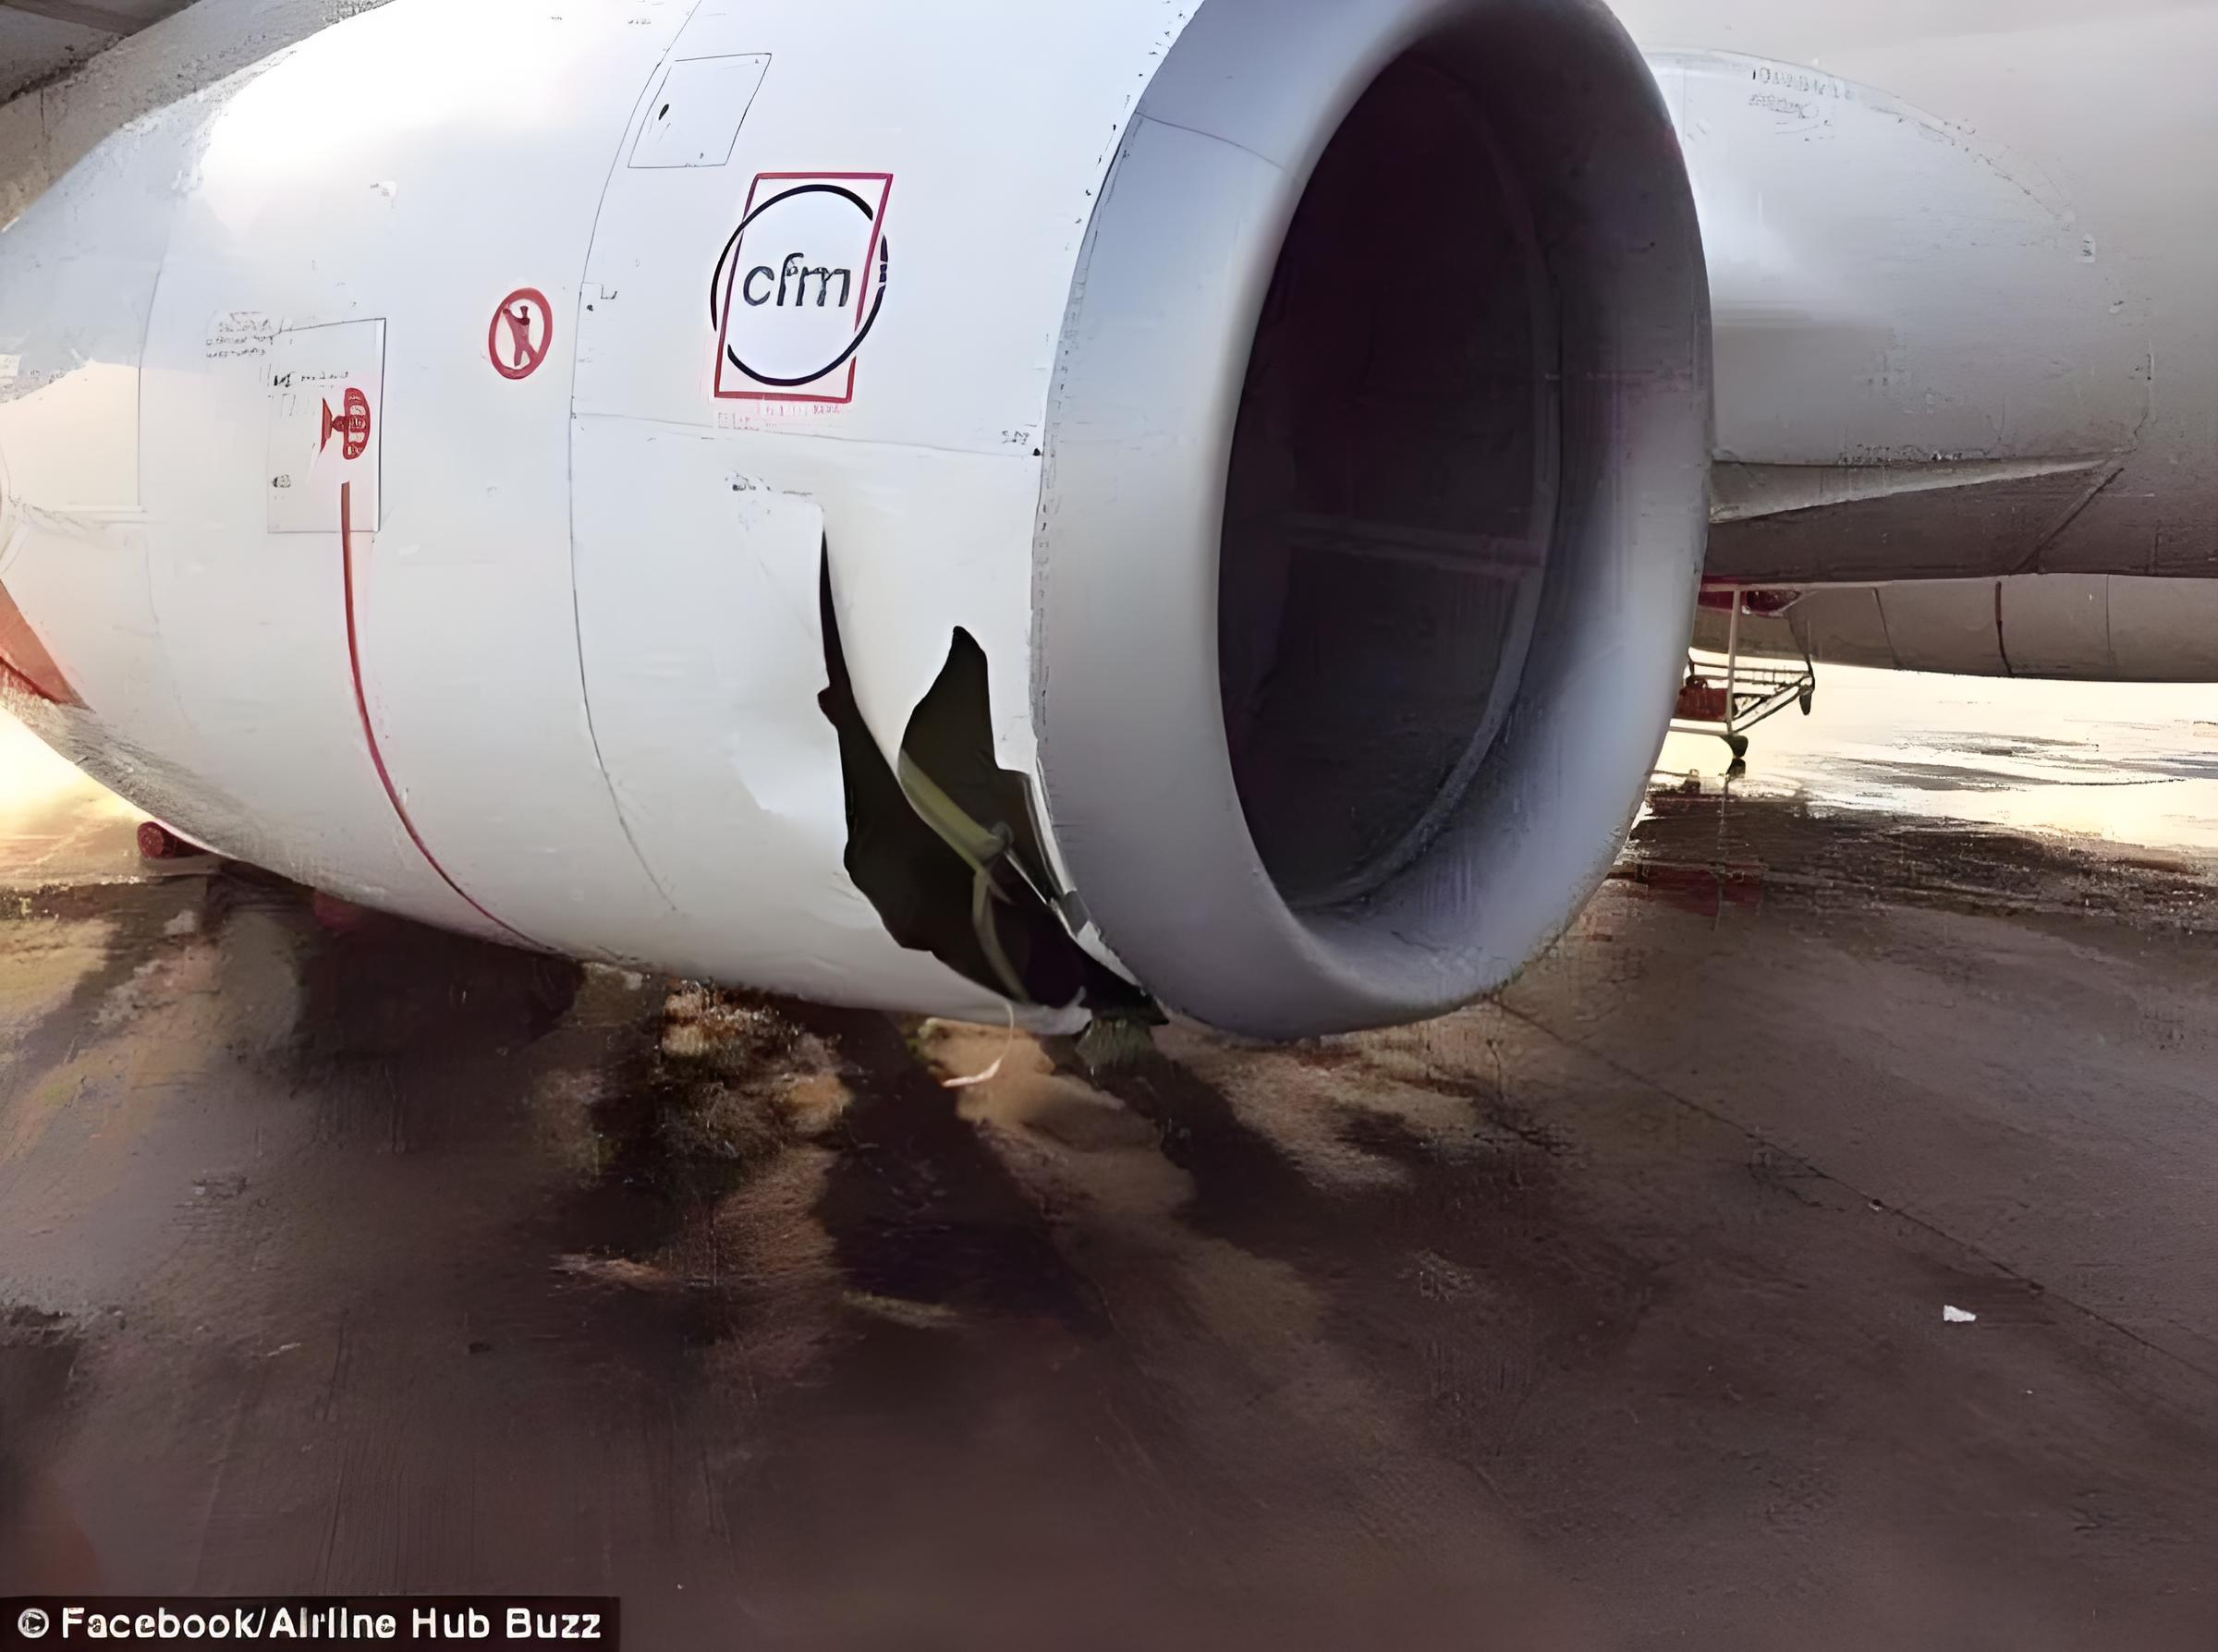Cracks: (751, 486, 1171, 1043)
Dents or Deformation: (679, 619, 824, 871)
